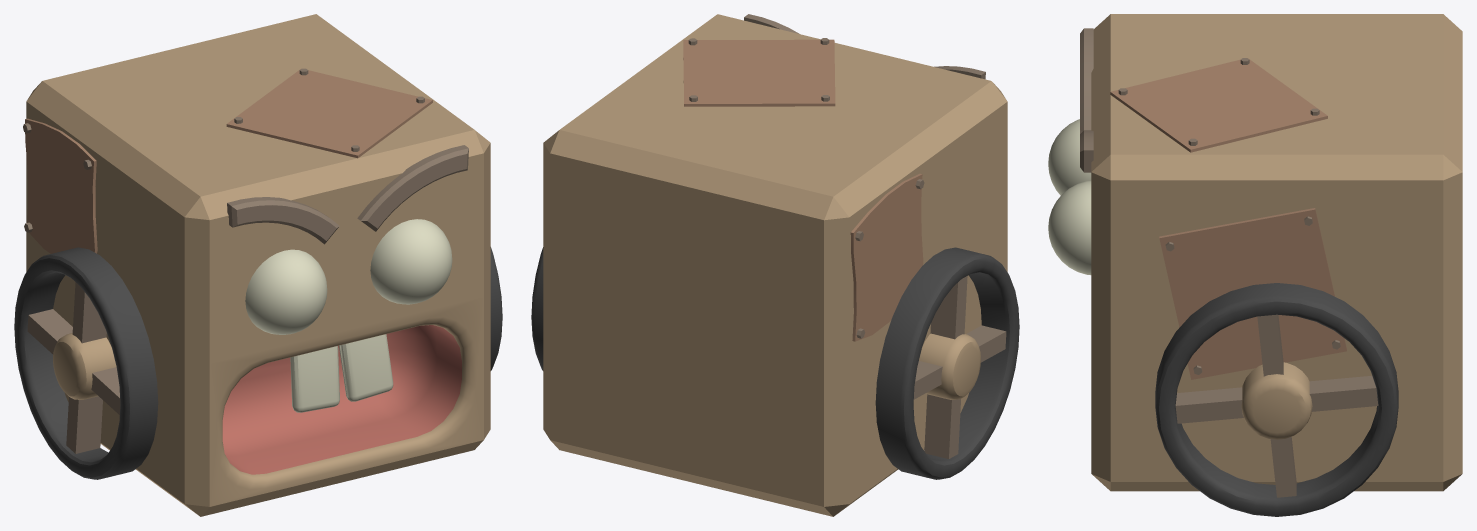
3 views of the same model, side by side, from view 1: azimuth 30°, elevation 25°; view 2: azimuth 150°, elevation 25°; view 3: azimuth 270°, elevation 25° (orthographic). The views are drawn at different scales.
Parts seen in each view (by area): view 1: 1, Wheel, 1.001; view 2: 1, Wheel, 1.001; view 3: 1, Wheel, 1.001.
Boxes of the visible parts, x1,y1,x2,y2 form: 1: (23, 14, 490, 516); Wheel: (14, 247, 502, 479); 1.001: (227, 145, 468, 244); 1: (543, 14, 1007, 516); Wheel: (531, 247, 1019, 479); 1.001: (744, 14, 985, 79); 1: (1048, 14, 1462, 491); Wheel: (1155, 283, 1398, 516); 1.001: (1080, 28, 1093, 172).
Bounding box in the file's own units: 252 × 205 × 223.
